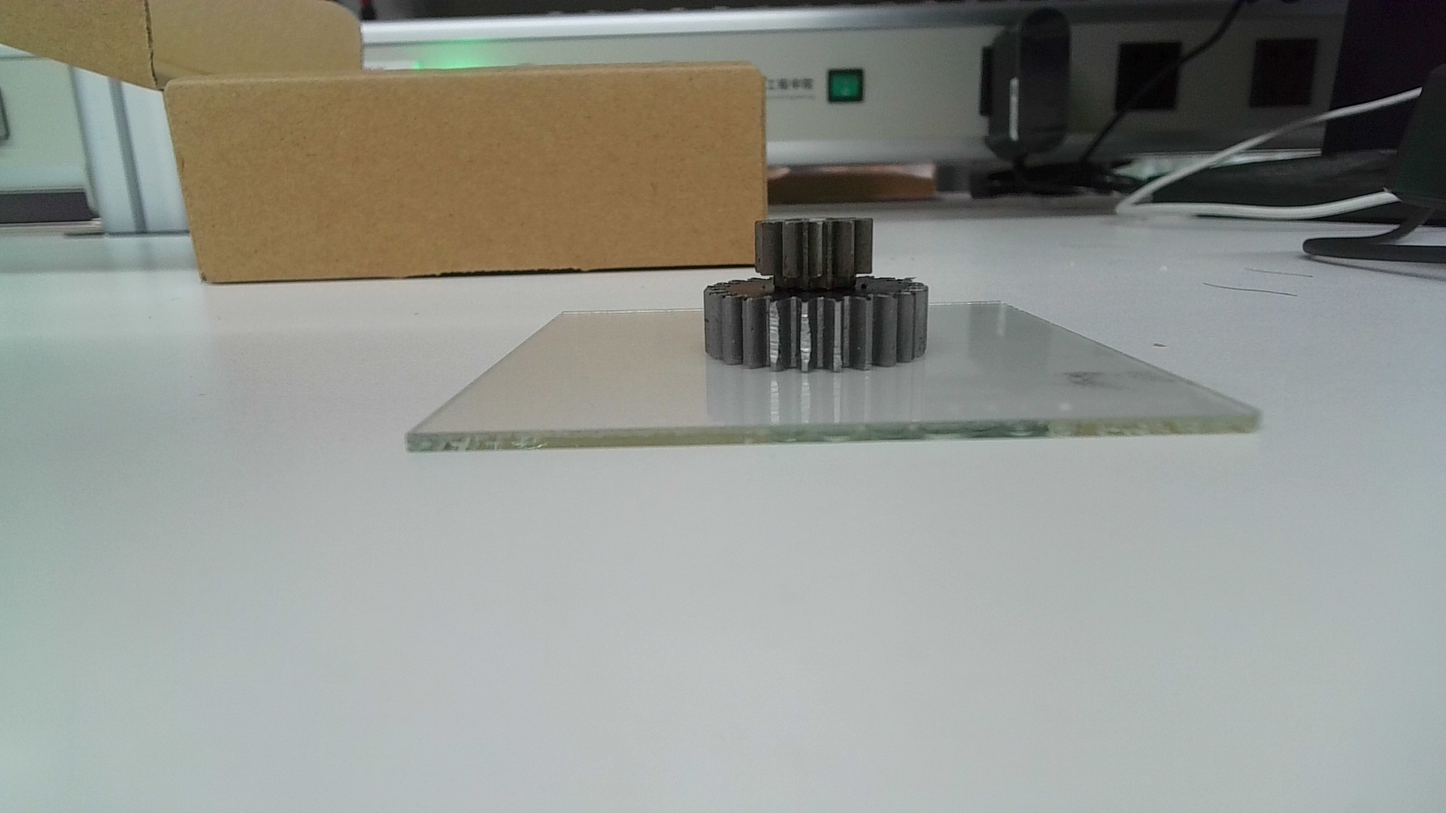gear: (700, 215, 930, 375)
